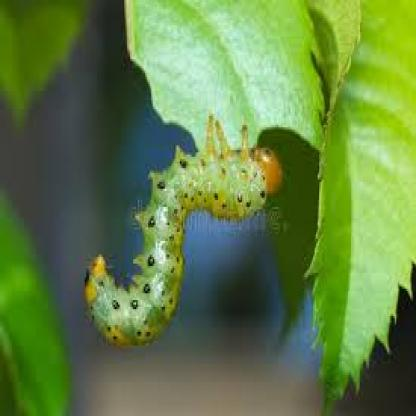sawfly: (84, 109, 281, 348)
